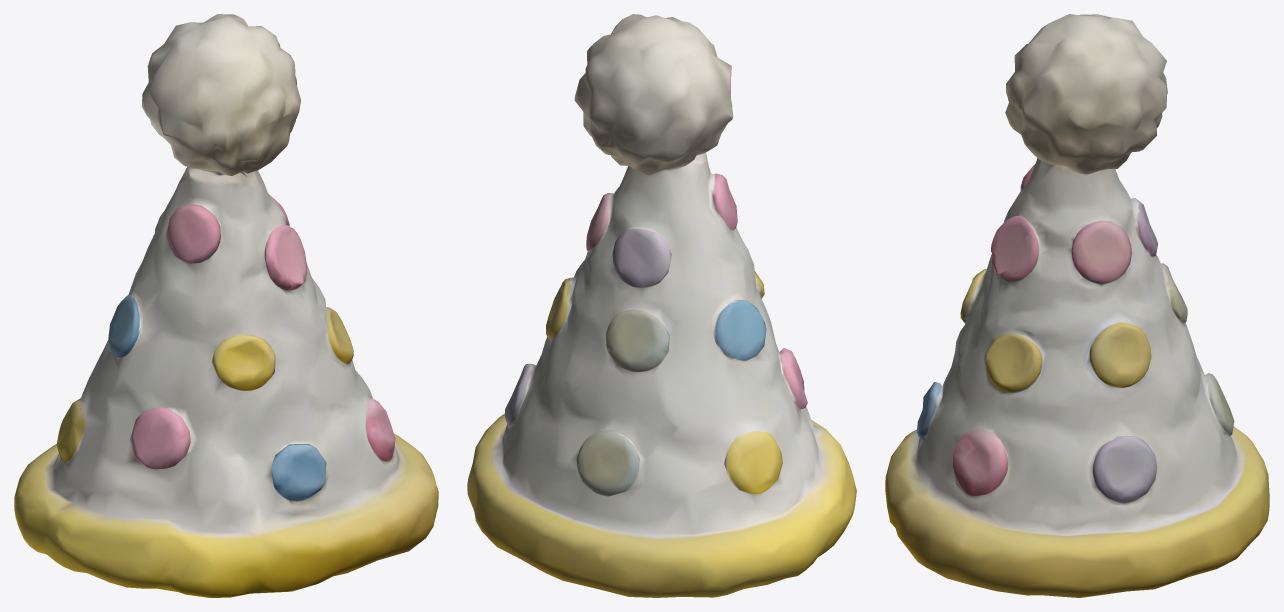
Rendered from aks-parti1.glb.
The picture shows the model from 3 angles, left to right: view 1: azimuth 30°, elevation 25°; view 2: azimuth 150°, elevation 25°; view 3: azimuth 270°, elevation 25°; orthographic projection.
Parts seen in each view (by area): view 1: aks; view 2: aks; view 3: aks.
Part boxes in pixels (x1,y1,x2,y2): aks: (14, 14, 438, 597); aks: (467, 14, 856, 597); aks: (885, 14, 1269, 597).
Size of the model in its own units: 0.69 by 0.9467 by 0.6455.
1 material, 1 textured.
